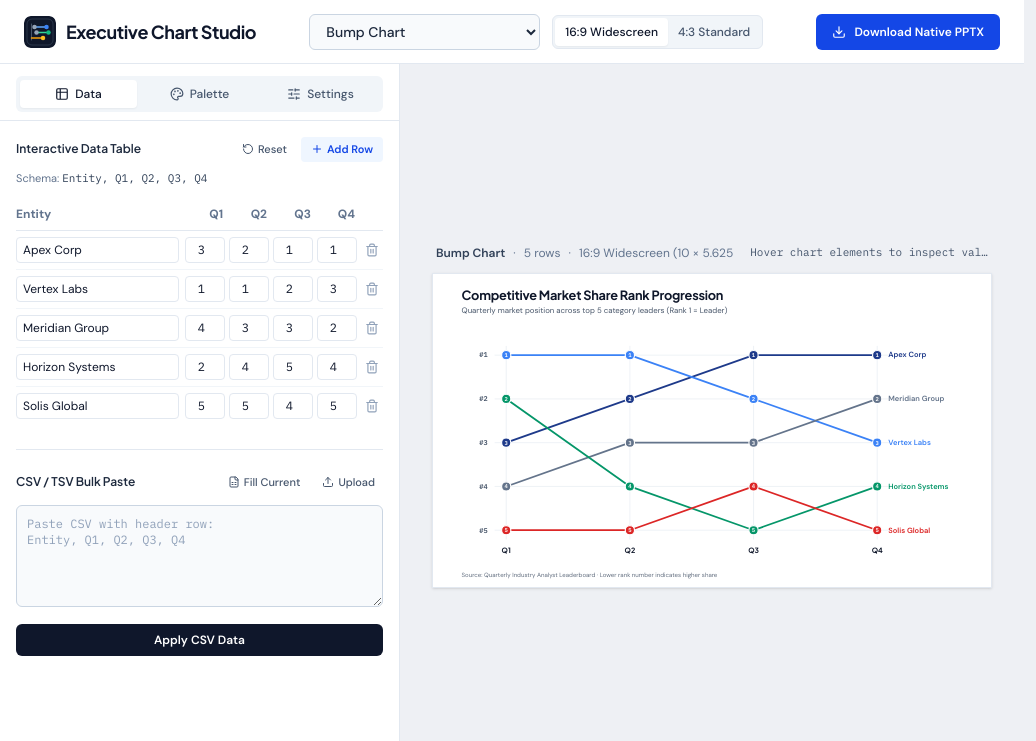
Integration: Executive Chart Studio Workflows › switches across all 10 chart types and updates live SVG slide preview
This screenshot has width=1036, height=741.
Earlier steps of the test are not shown.
Expected: the picture "Competitive Market Share Rank" is shown, left=433, top=274, right=991, bottom=586
Select "Bullet Chart" in the dropdown named "Chart Type" at (425, 32), box left=309, top=14, right=540, bottom=50
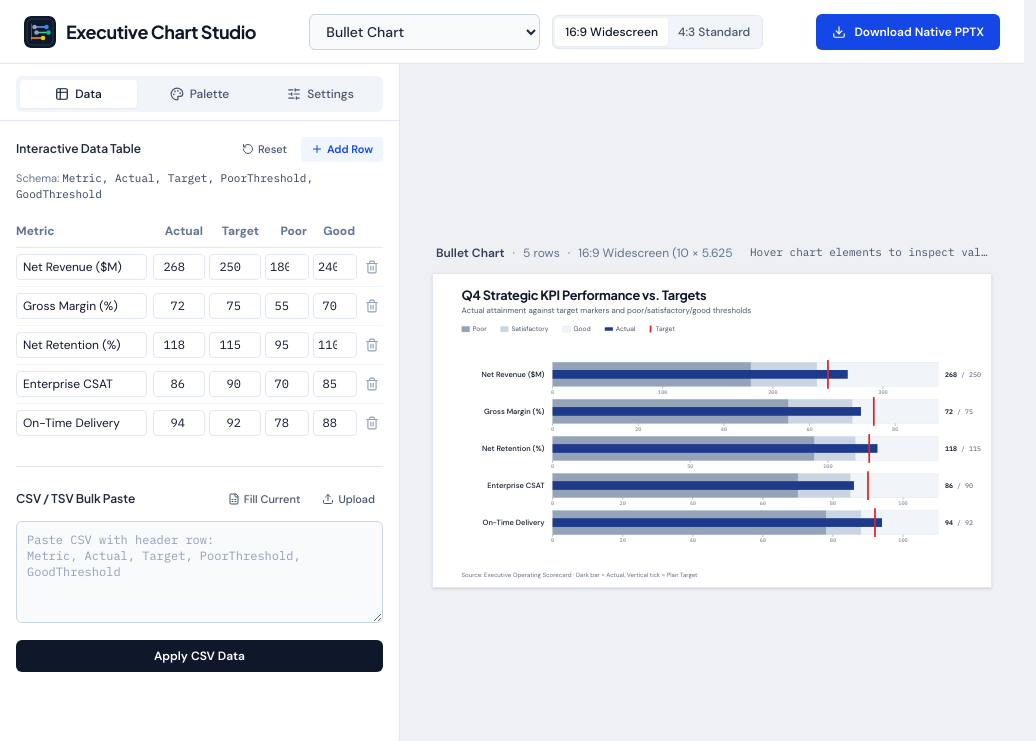
Now the picture "Q4 Strategic KPI Performance" is shown, box left=433, top=274, right=991, bottom=586
Select "Span (Range) Chart" in the dropdown named "Chart Type" at (425, 32), box left=309, top=14, right=540, bottom=50
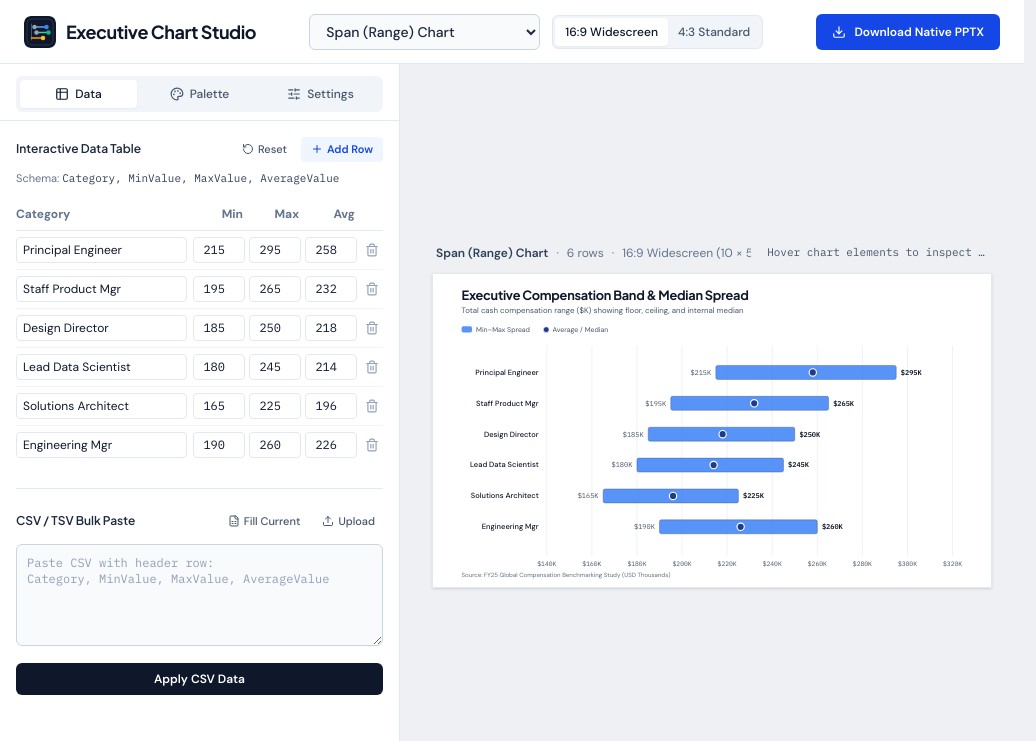
Now the picture "Executive Compensation Band" is shown, box left=433, top=274, right=991, bottom=586
Select "Diverging Stacked Bar Chart" in the dropdown named "Chart Type" at (425, 32), box left=309, top=14, right=540, bottom=50
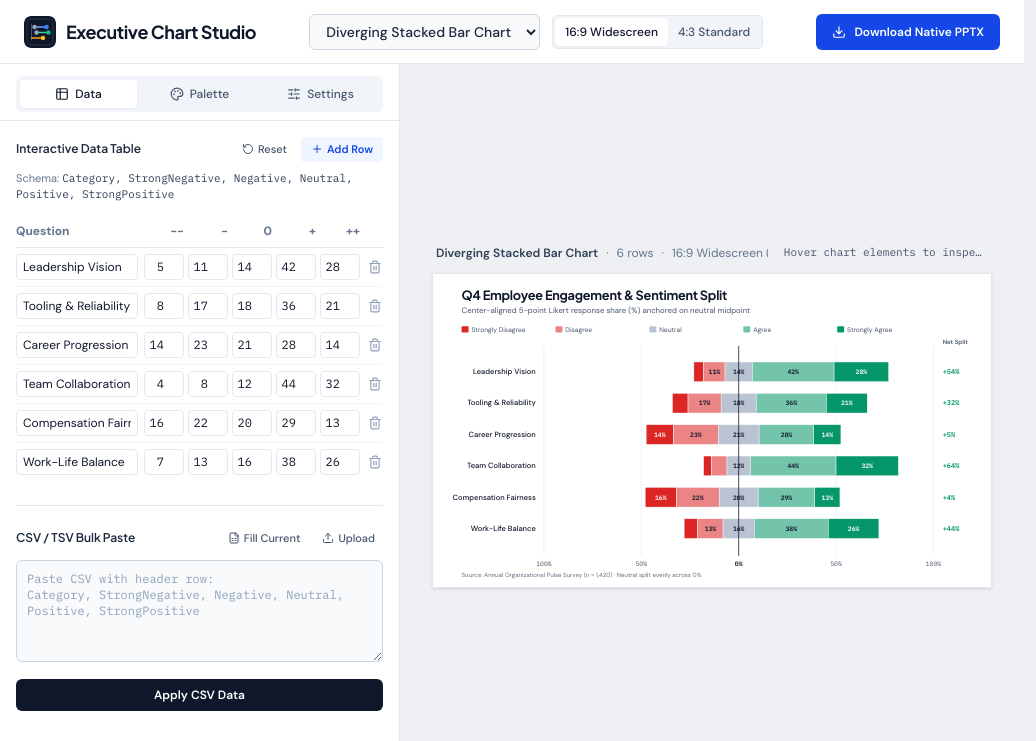
Now the picture "Q4 Employee Engagement" is shown, box left=433, top=274, right=991, bottom=586
Select "Ternary Plot" in the dropdown named "Chart Type" at (425, 32), box left=309, top=14, right=540, bottom=50
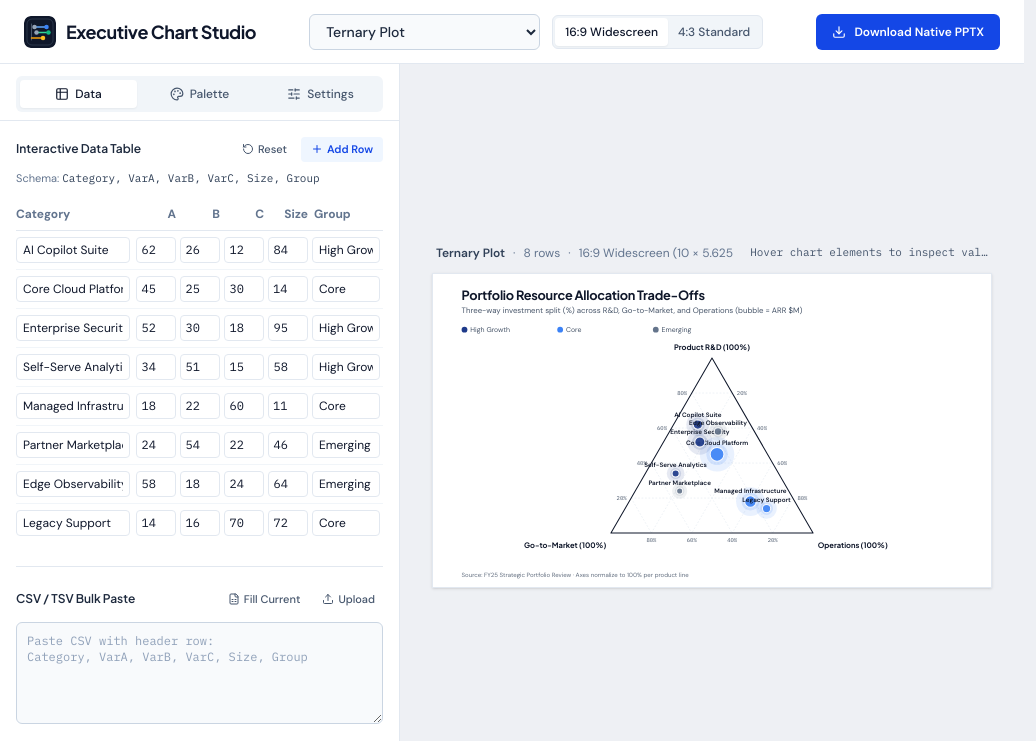
Now the picture "Portfolio Resource Allocation Trade-Offs" is shown, box left=433, top=274, right=991, bottom=586
Select "Voronoi Treemap" in the dropdown named "Chart Type" at (425, 32), box left=309, top=14, right=540, bottom=50
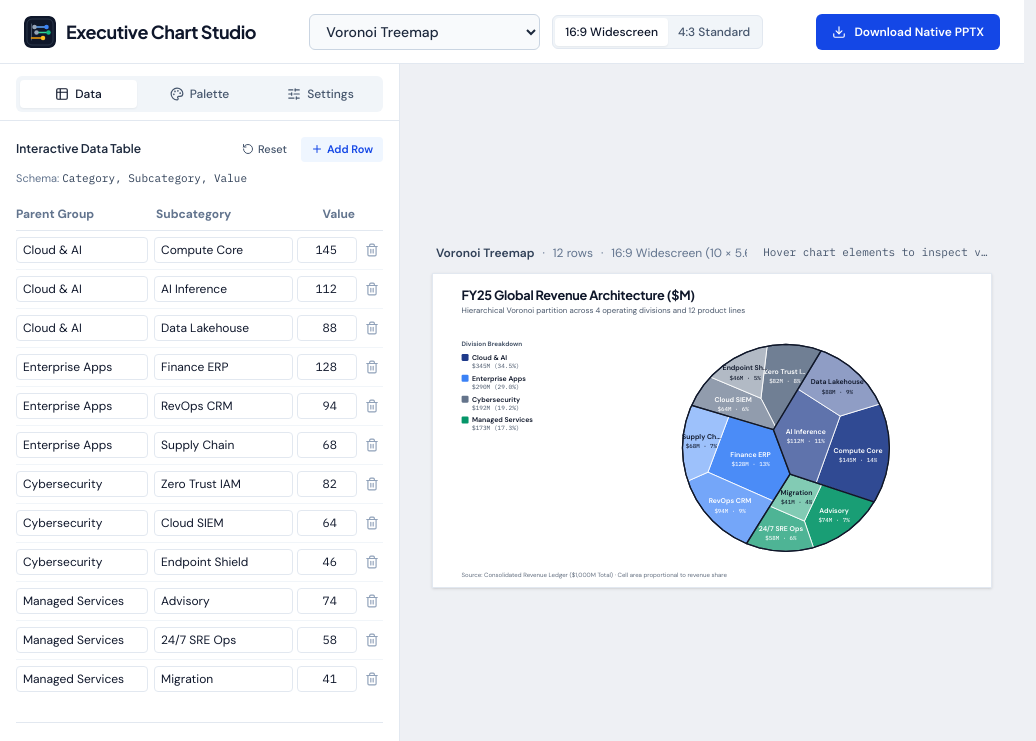
Now the picture "FY25 Global Revenue Architecture" is shown, box left=433, top=274, right=991, bottom=586
Select "Barbell (Dumbbell) Chart" in the dropdown named "Chart Type" at (425, 32), box left=309, top=14, right=540, bottom=50
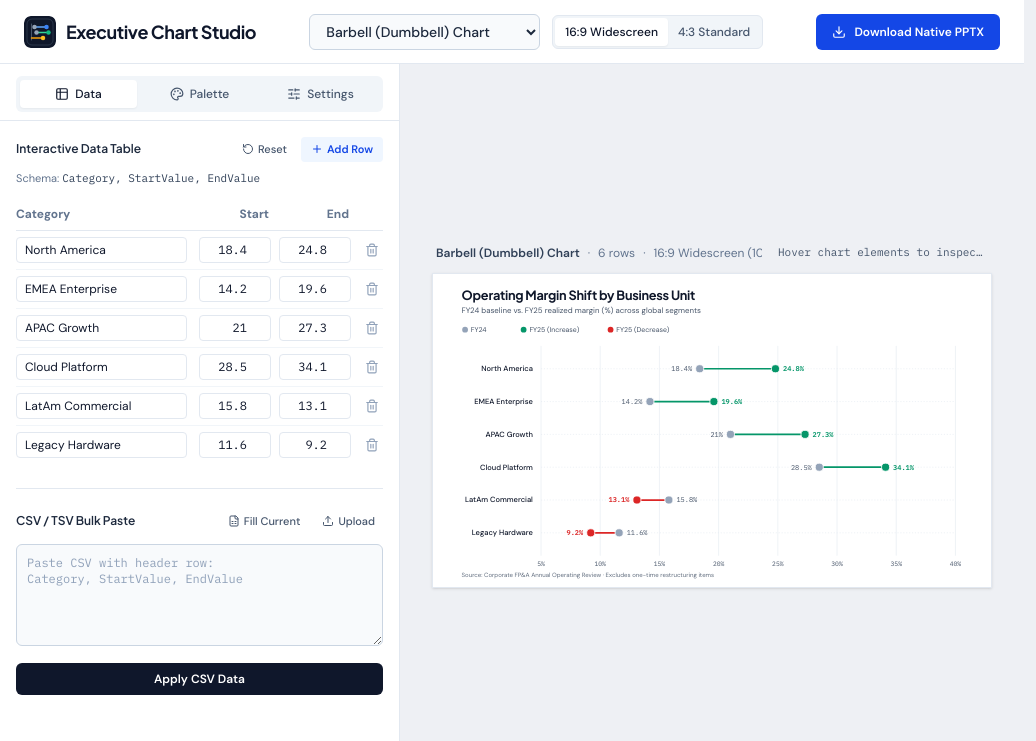
Now the picture "Operating Margin Shift" is shown, box left=433, top=274, right=991, bottom=586
